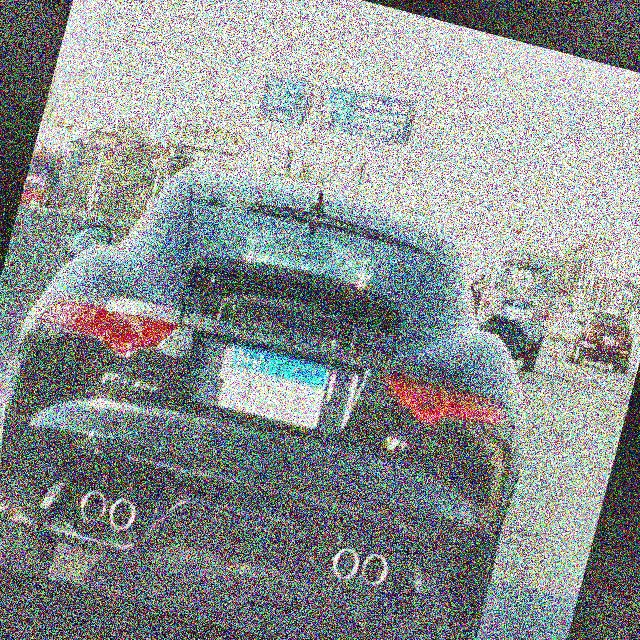License Plate: (216, 338, 335, 434)
